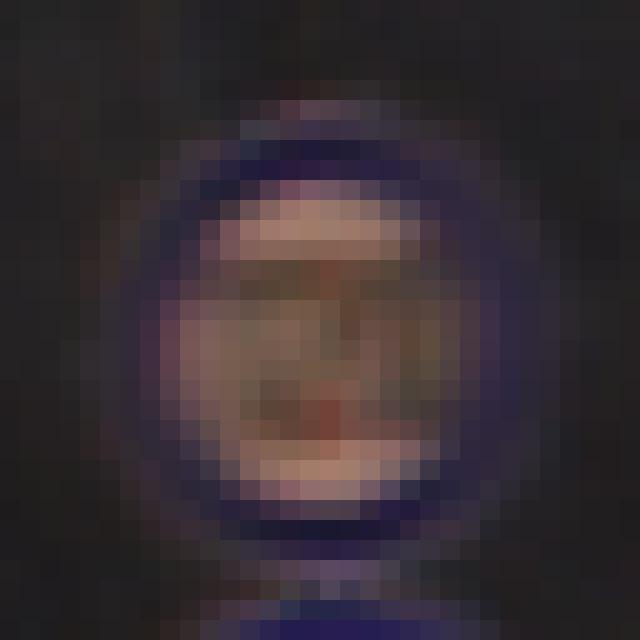SPEED LIMIT 120: (110, 97, 572, 572)
